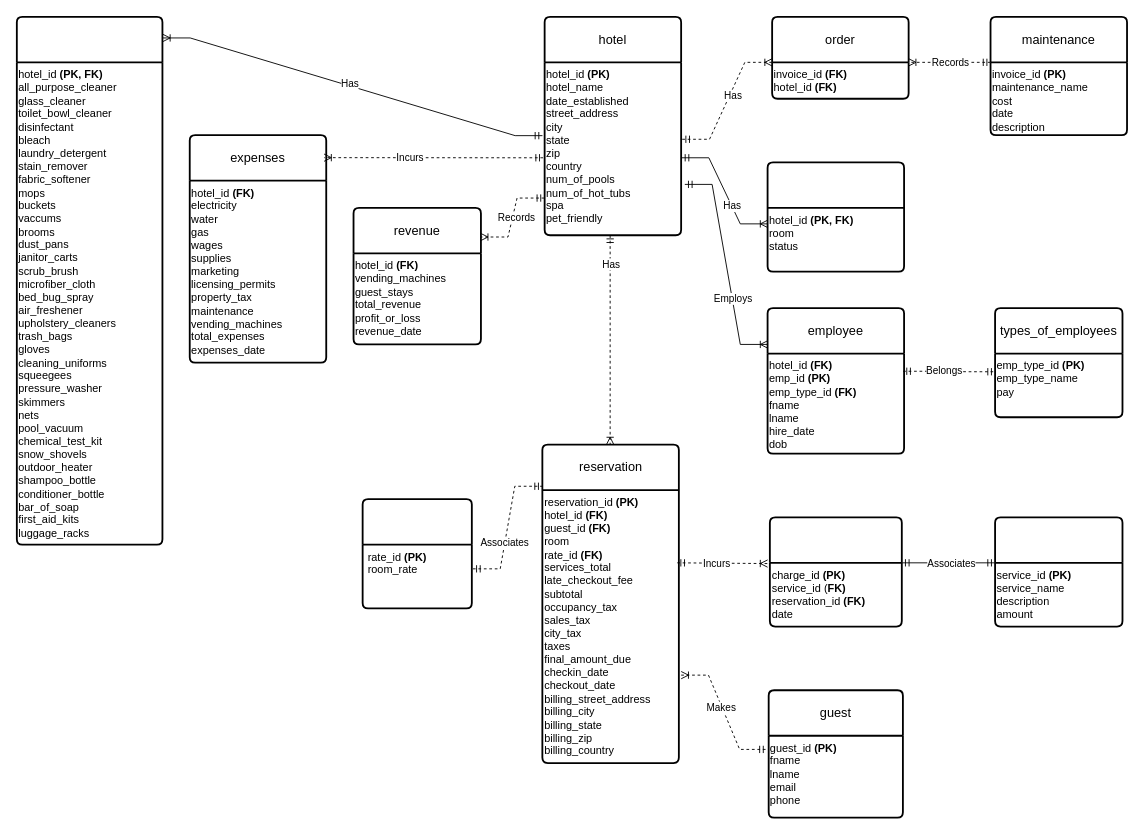
The diagram is 1143 pixels wide and 834 high, and some of its shapes have lost their labels. Each missing label, with the box of its shape:
rates: (361, 498, 472, 609)
room_availability: (766, 161, 905, 272)
service_charges: (768, 516, 902, 627)
services: (994, 516, 1123, 627)
spare_inventory: (15, 15, 163, 545)
